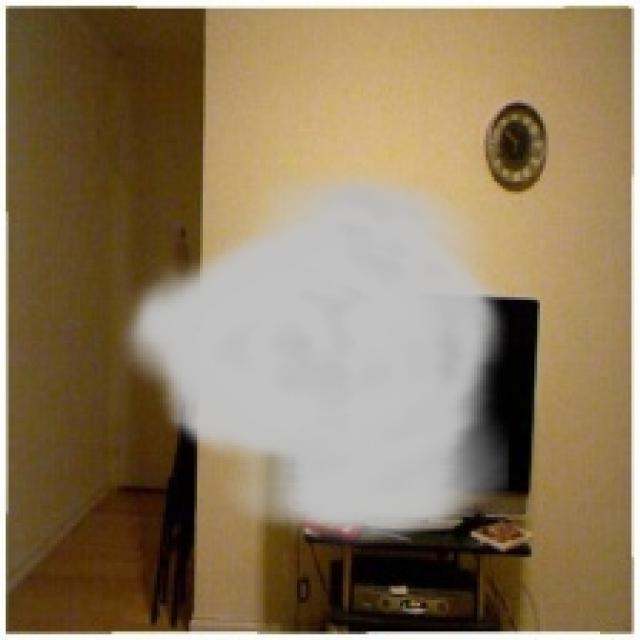Smoke: (117, 160, 509, 546)
